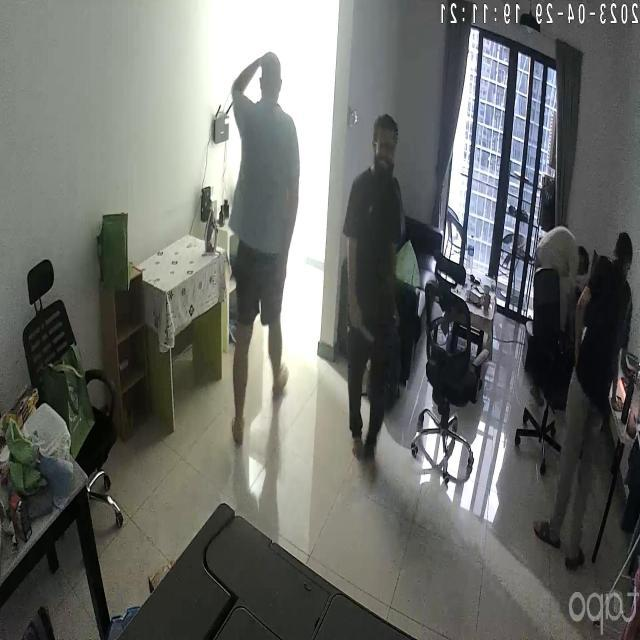Knife: (334, 310, 392, 348)
